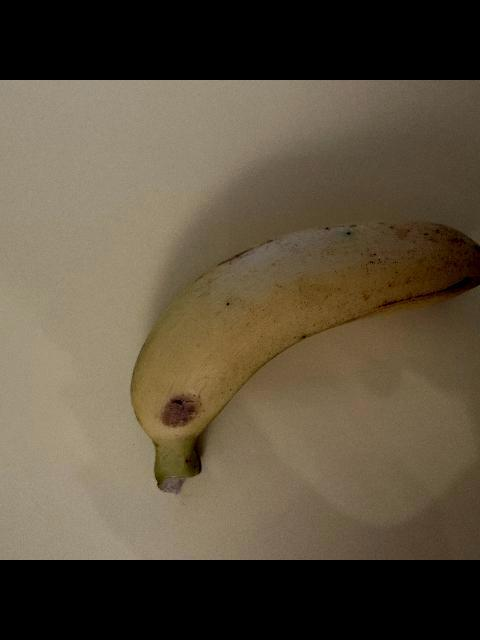banana: (128, 221, 480, 496)
